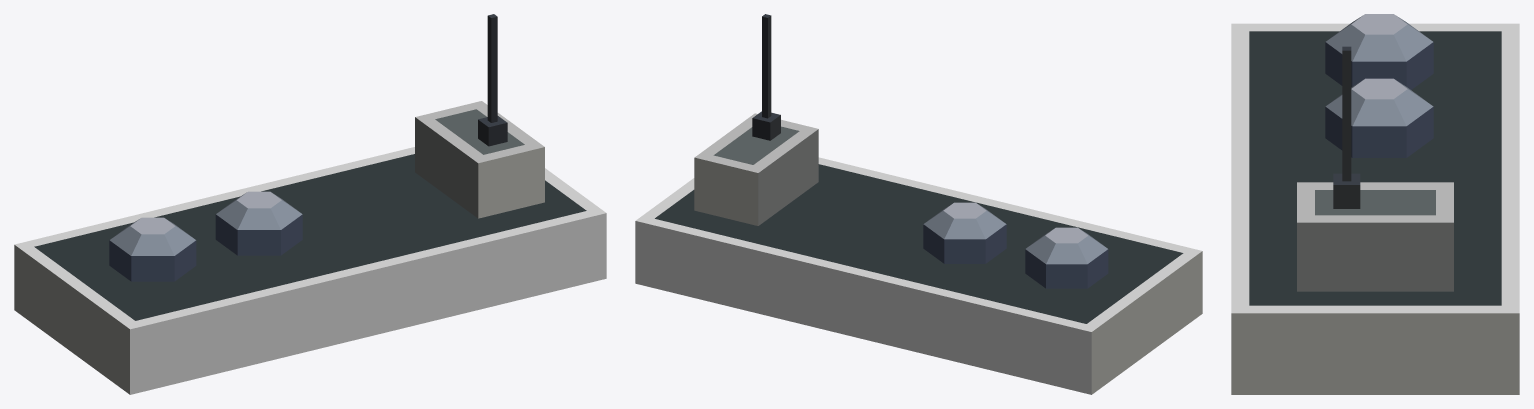
The model's file is TB_CITY_Skysc_C_Top_Gray.FBX.
3 views of the same model, side by side, from view 1: azimuth 30°, elevation 25°; view 2: azimuth 150°, elevation 25°; view 3: azimuth 270°, elevation 25° (orthographic). The views are drawn at different scales.
Parts seen in each view (by area): view 1: TB_CITY_Skysc_C_Top_Gray; view 2: TB_CITY_Skysc_C_Top_Gray; view 3: TB_CITY_Skysc_C_Top_Gray.
Boxes of the visible parts, <box> form: TB_CITY_Skysc_C_Top_Gray: <box>14,14,606,394</box>; TB_CITY_Skysc_C_Top_Gray: <box>635,14,1202,394</box>; TB_CITY_Skysc_C_Top_Gray: <box>1231,14,1519,394</box>.
Size of the model in its own units: 38 by 18.68 by 16.
